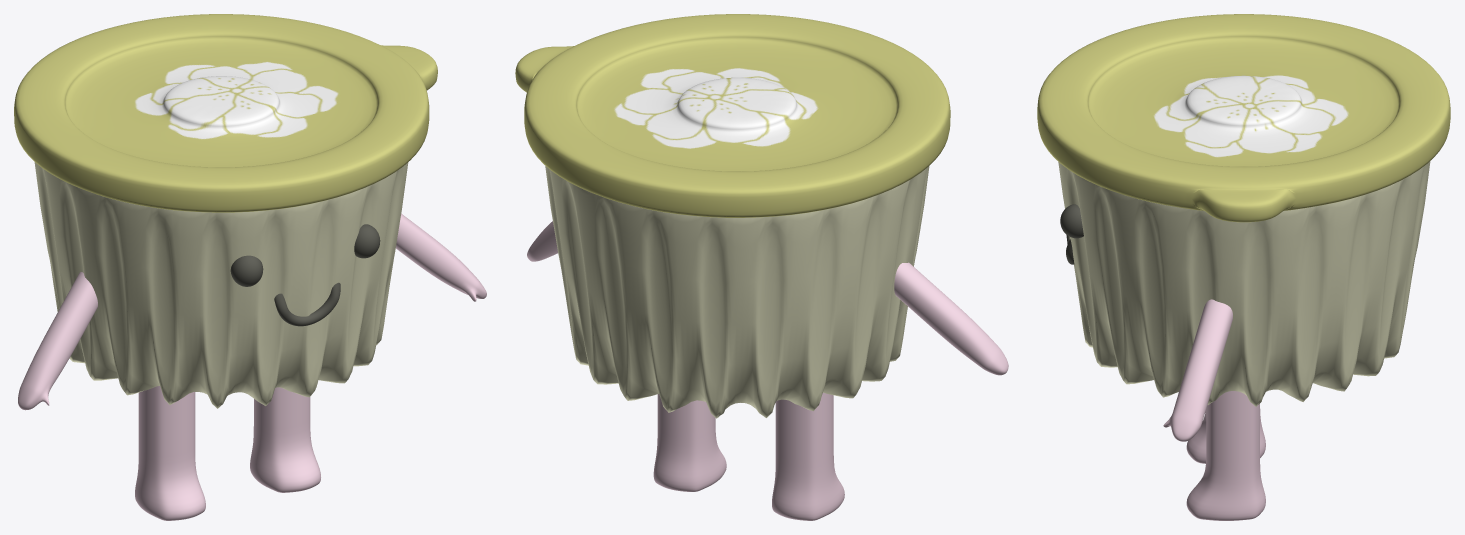
Rendered from delivery.glb.
The picture shows the model from 3 angles, left to right: view 1: azimuth 30°, elevation 25°; view 2: azimuth 150°, elevation 25°; view 3: azimuth 270°, elevation 25°; orthographic projection. The views are drawn at different scales.
Parts seen in each view (by area): view 1: container; view 2: container; view 3: container.
Boxes of the visible parts, x1=… form: container: x1=14, y1=14, x2=486, y2=520; container: x1=515, y1=14, x2=1008, y2=520; container: x1=1037, y1=14, x2=1450, y2=520.
Size of the model in its own units: 0.8737 by 0.6971 by 0.6762.
Materials: 1 (1 with a texture image).
